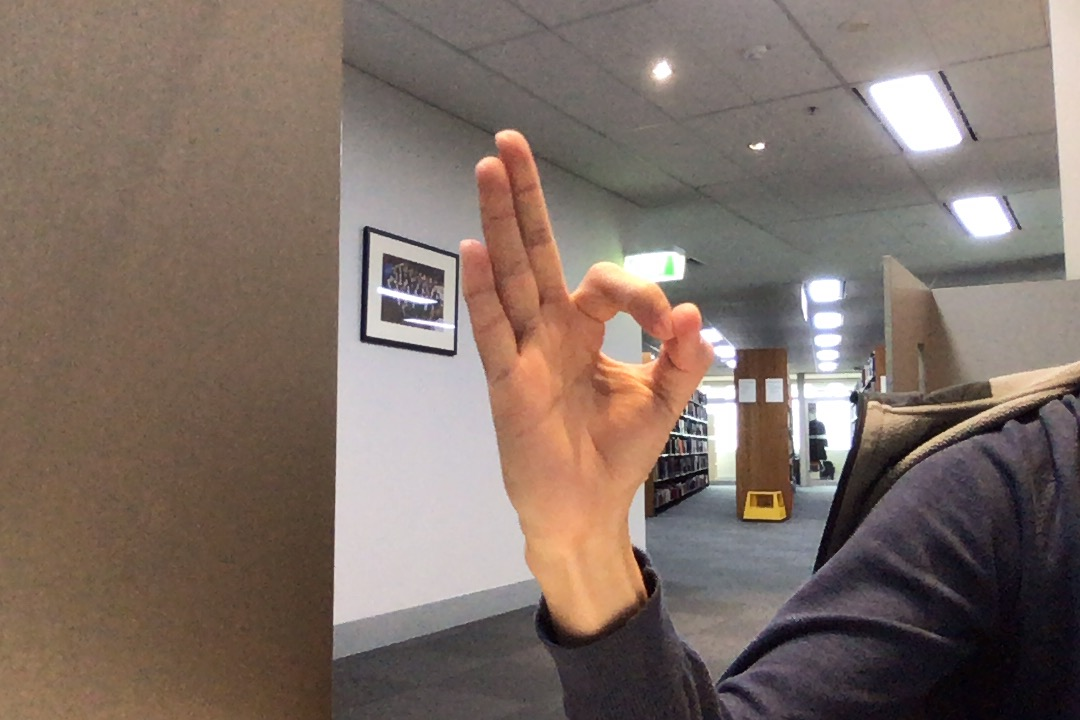oksign: (448, 117, 723, 537)
